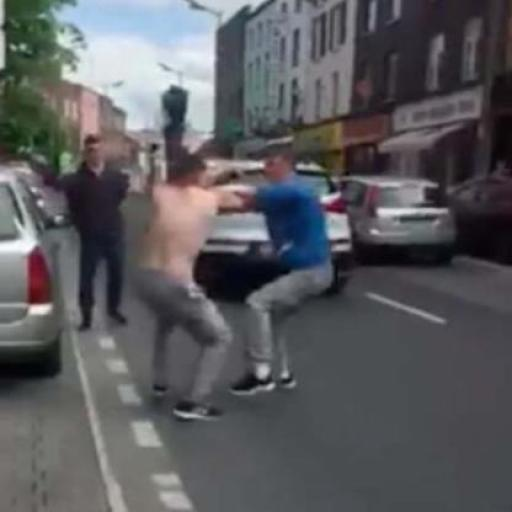Fighting: (128, 128, 335, 426)
